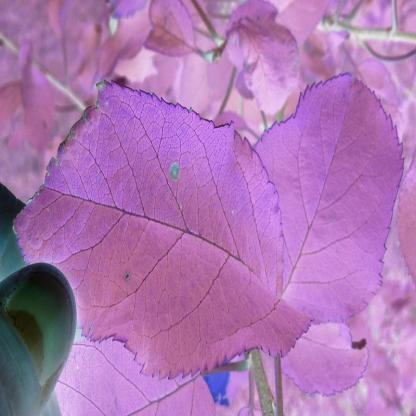Apple Scab Leaf: (16, 79, 298, 381)
